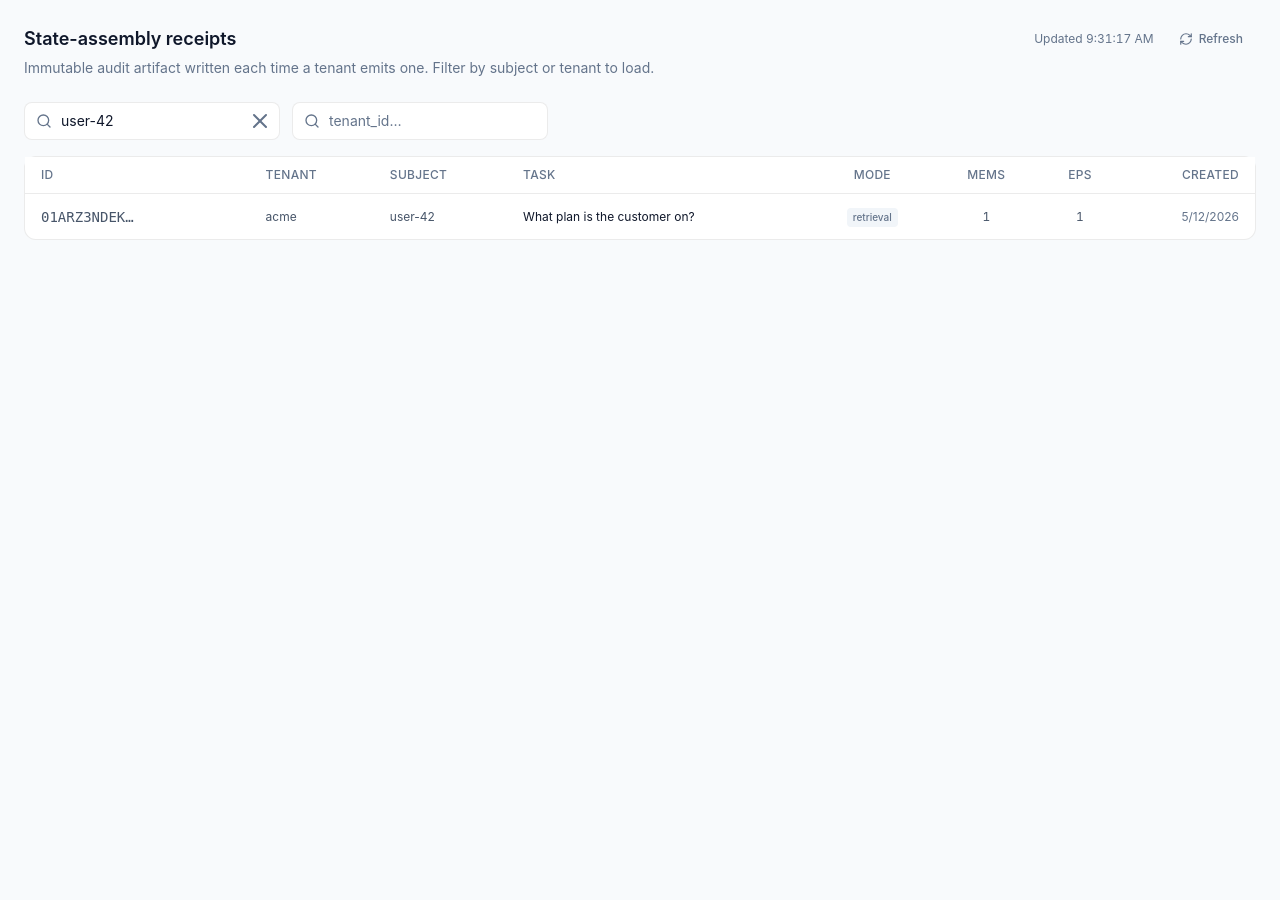
ReceiptsPage — replay button (v0.9 #159 / #160) › renders the diff envelope after a successful replay
Click the text "What plan is the customer on" at [640, 216], box x1=25 y1=194 x2=1255 y2=239
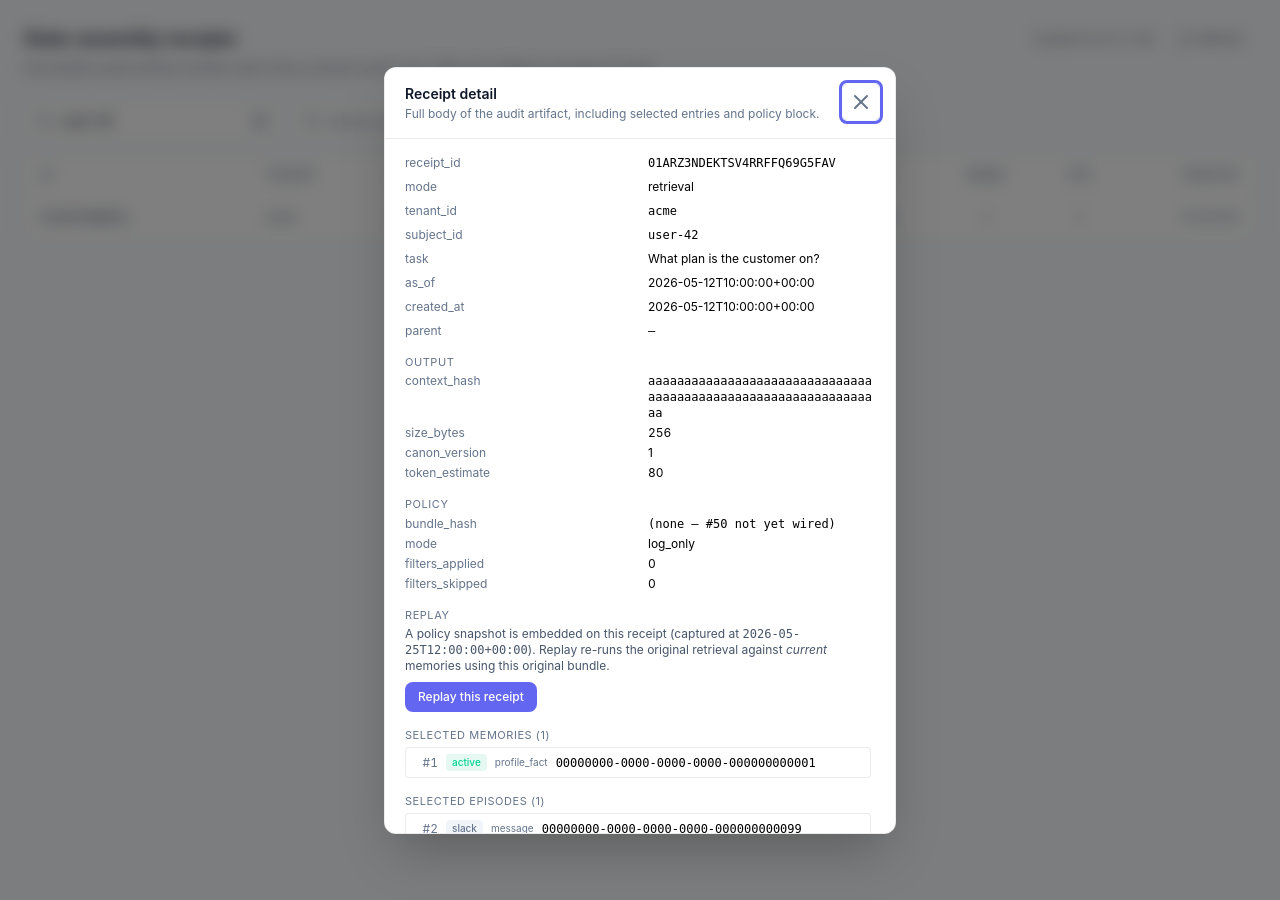
Click the button "Replay this receipt" at [471, 698], box x1=405 y1=682 x2=537 y2=712
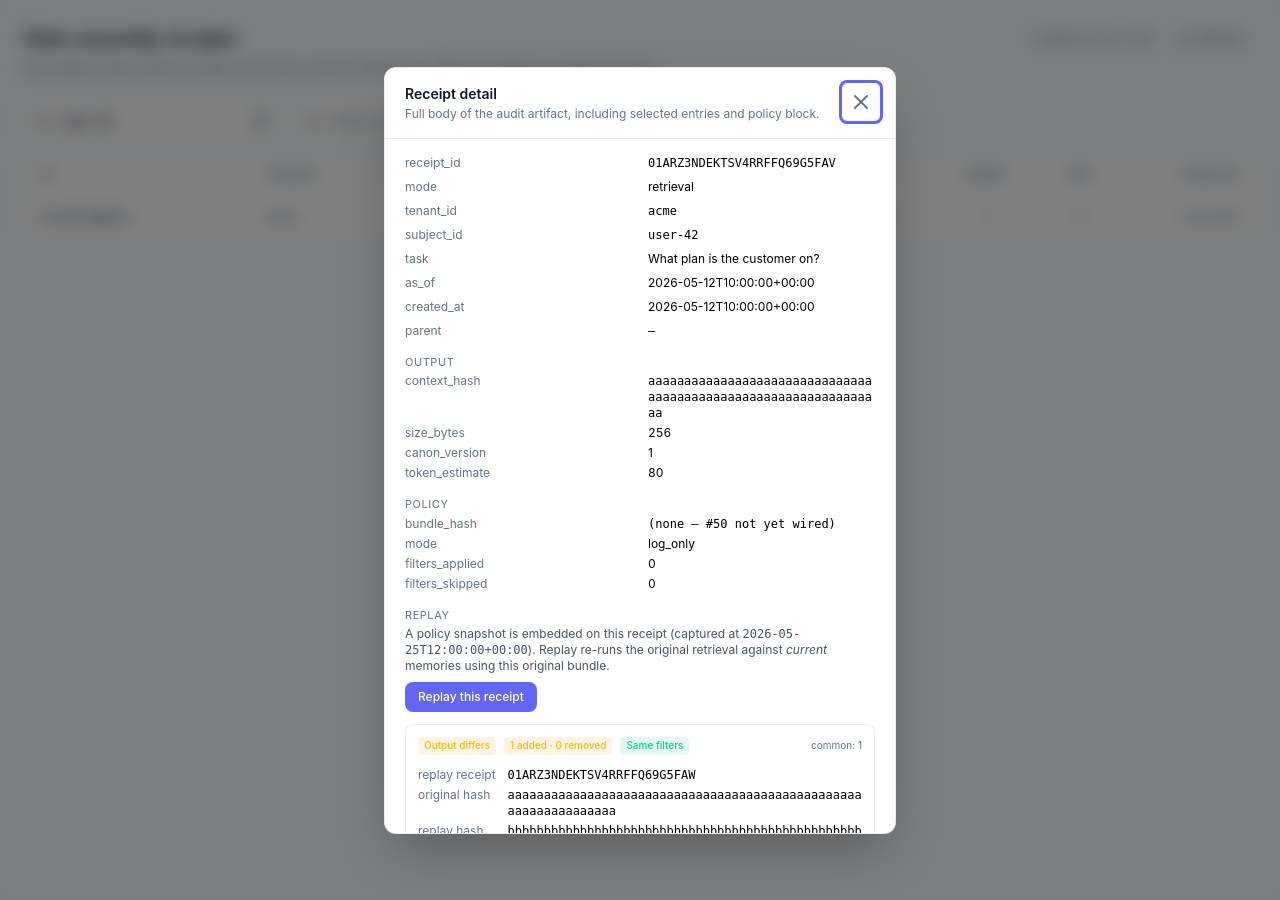
Expected: the text "Output differs" is shown, x1=418 y1=738 x2=496 y2=755
Expected: the text "1 added · 0 removed" is shown, x1=504 y1=738 x2=612 y2=755
